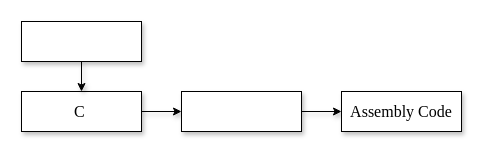
Some shapes in this 485 by 156 pixel diagram are drawn without their labels. The shapes that lost their labels are listed below. From the top down, each one's centre as x and y in pixels, then its label:
At pixel 82 42: "CPS".
At pixel 242 112: "RTL".
